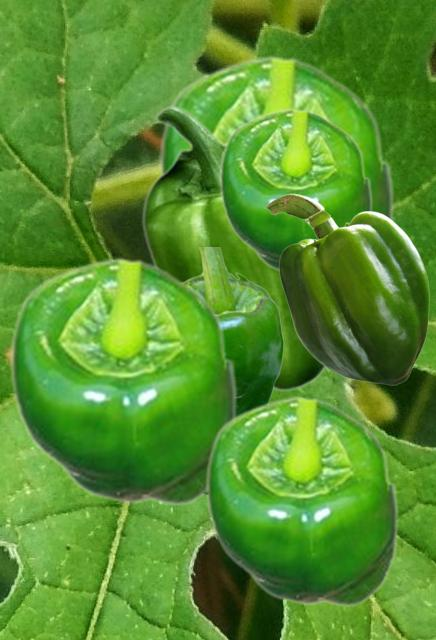bell_pepper: (8, 256, 237, 505), (141, 105, 326, 391), (204, 395, 398, 606), (157, 54, 394, 220), (265, 193, 428, 384), (218, 107, 372, 273), (185, 247, 283, 411)
